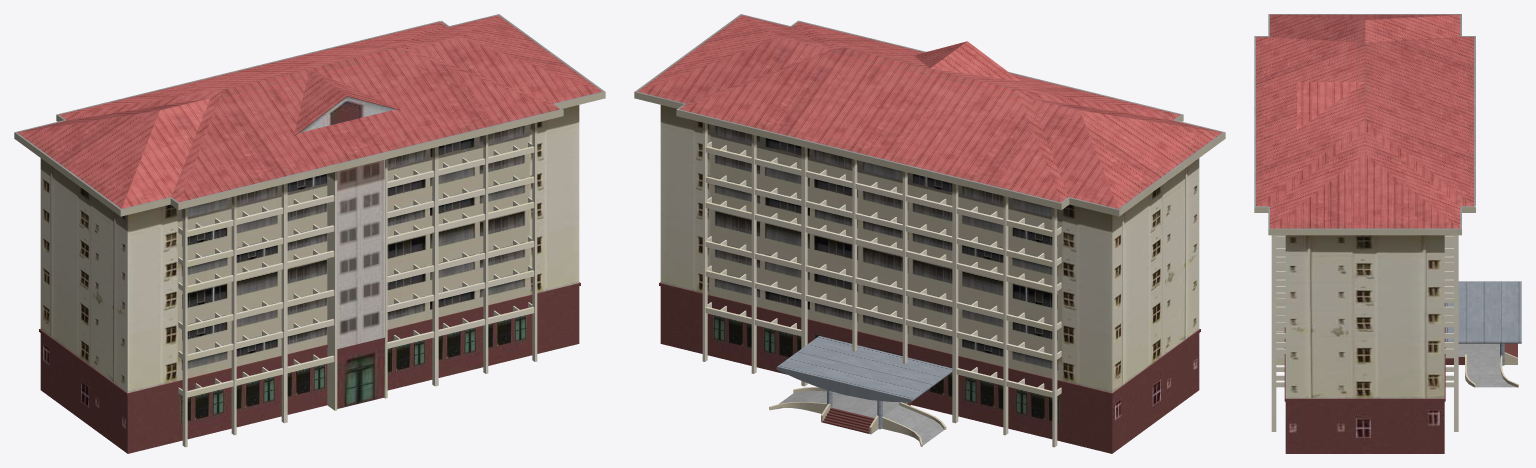
The picture shows the model from 3 angles, left to right: view 1: azimuth 30°, elevation 25°; view 2: azimuth 150°, elevation 25°; view 3: azimuth 270°, elevation 25°; orthographic projection. The views are drawn at different scales.
Parts seen in each view (by area): view 1: HN582_BoYTe; view 2: HN582_BoYTe; view 3: HN582_BoYTe.
Part boxes in pixels (x1=…): HN582_BoYTe: x1=14, y1=14, x2=605, y2=453; HN582_BoYTe: x1=634, y1=14, x2=1225, y2=453; HN582_BoYTe: x1=1254, y1=14, x2=1521, y2=453.
Size of the model in its own units: 58.42 by 34.35 by 30.66.
1 material, 1 textured.
